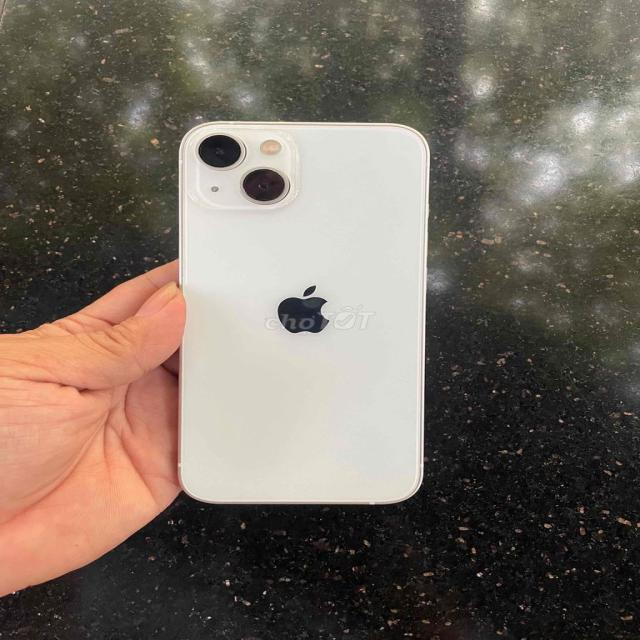gen_12_13: (175, 116, 439, 506)
